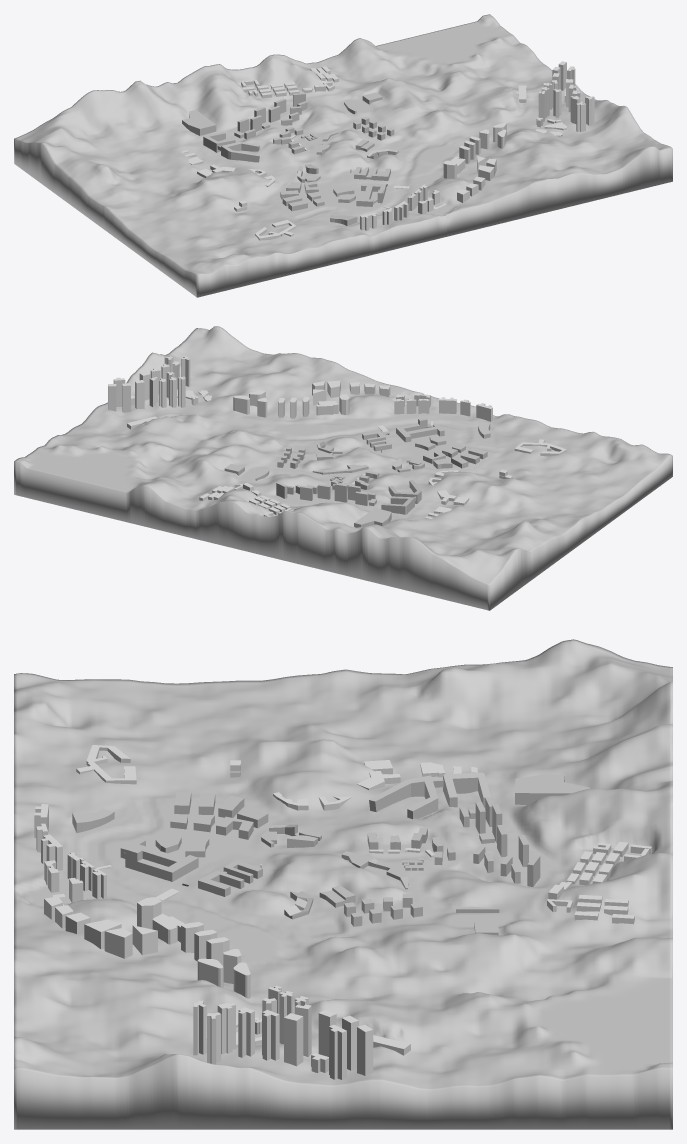
Rendered from SUSTech.fbx.
3 views of the same model, one above another, from view 1: azimuth 30°, elevation 25°; view 2: azimuth 150°, elevation 25°; view 3: azimuth 270°, elevation 25° (orthographic). The views are drawn at different scales.
Visible parts, largest first — view 1: EXPORT_GOOGLE_SAT_WM, Areas:工学院南楼, Areas:第三科研楼, Areas:理学院; view 2: EXPORT_GOOGLE_SAT_WM, Areas:理学院, Areas:第三科研楼, Areas:工学院北楼; view 3: EXPORT_GOOGLE_SAT_WM, Areas:理学院, Areas:工学院南楼, Areas:第三科研楼, Areas:工学院北楼, Areas:building.207, Areas:building.201, Areas:building.208, Areas:building.206, Areas:building.209, Areas:商学院, Areas:building.220 (+3 smaller).
Boxes of the visible parts, <box> form: EXPORT_GOOGLE_SAT_WM: <box>14,14,672,297</box>; Areas:工学院南楼: <box>221,142,259,162</box>; Areas:第三科研楼: <box>182,110,216,135</box>; Areas:理学院: <box>356,183,386,206</box>; EXPORT_GOOGLE_SAT_WM: <box>14,326,672,610</box>; Areas:理学院: <box>396,417,444,442</box>; Areas:第三科研楼: <box>354,508,391,527</box>; Areas:工学院北楼: <box>381,496,414,514</box>; EXPORT_GOOGLE_SAT_WM: <box>14,639,672,1129</box>; Areas:理学院: <box>120,838,198,881</box>; Areas:工学院南楼: <box>369,775,438,819</box>; Areas:第三科研楼: <box>515,775,589,805</box>; Areas:工学院北楼: <box>443,772,490,807</box>; Areas:building.207: <box>284,1013,303,1066</box>; Areas:building.201: <box>329,1024,346,1079</box>; Areas:building.208: <box>262,1009,279,1060</box>; Areas:building.206: <box>357,1024,373,1075</box>; Areas:building.209: <box>238,1007,254,1057</box>; Areas:商学院: <box>198,870,244,896</box>; Areas:building.220: <box>217,1003,235,1054</box>.
Size of the model in its own units: 275173 by 30400 by 183449.
